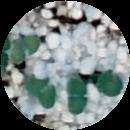Basil: (11, 34, 44, 64), (32, 76, 56, 108), (96, 66, 120, 95), (66, 80, 86, 112)
